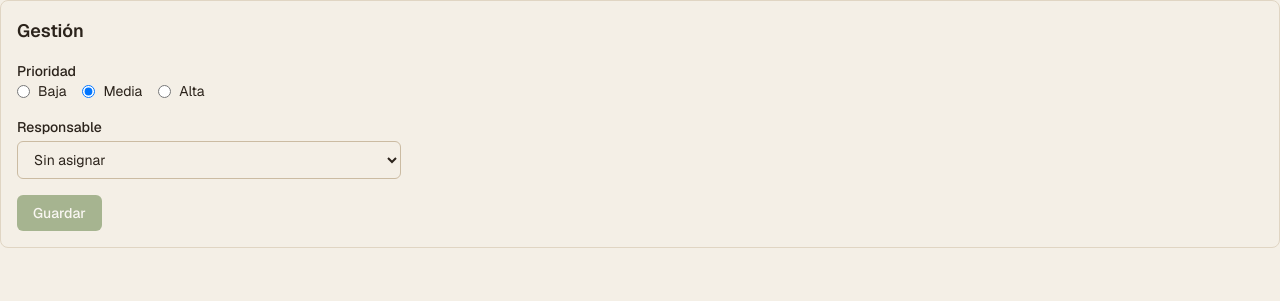
H12. Bandeja de incidencias del administrador: priorizar y asignar › AC3: el panel Gestión cambia prioridad y responsable con los activos, y al guardar muestra Cambios guardados
The image size is (1280, 301).
Expected: the button "Guardar" is disabled, [17,195,102,231]
Click the radio button labelled "Alta". click: [165, 91]
box: [158,84,171,98]
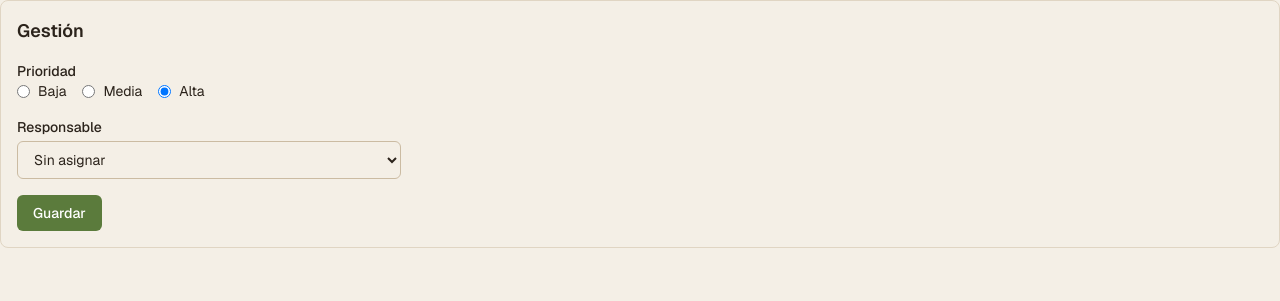
Select "Miguel Torres · Electricidad" in the dropdown labelled "Responsable". click: [209, 160]
box: [17,141,401,179]
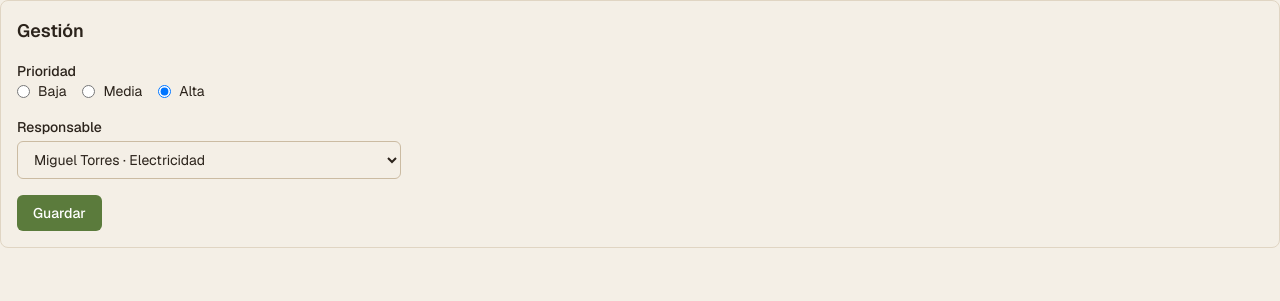
Result: the button "Guardar" is enabled
Click the button "Guardar". click: [59, 213]
box: [17,195,102,231]
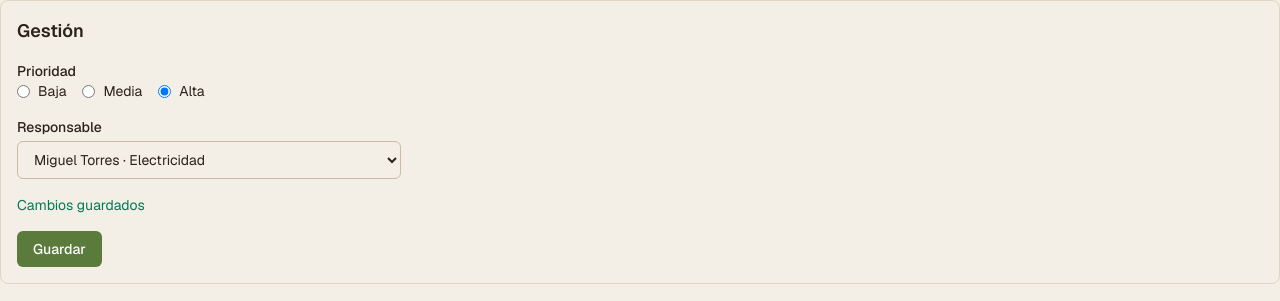
Result: the message reads "Cambios guardados" at [17,196,145,214]
